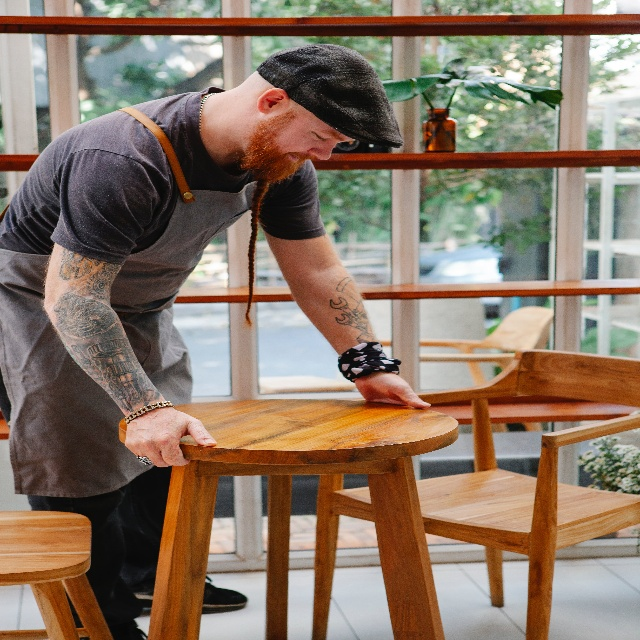Sin_guantes: (124, 406, 217, 469), (354, 371, 431, 410)
